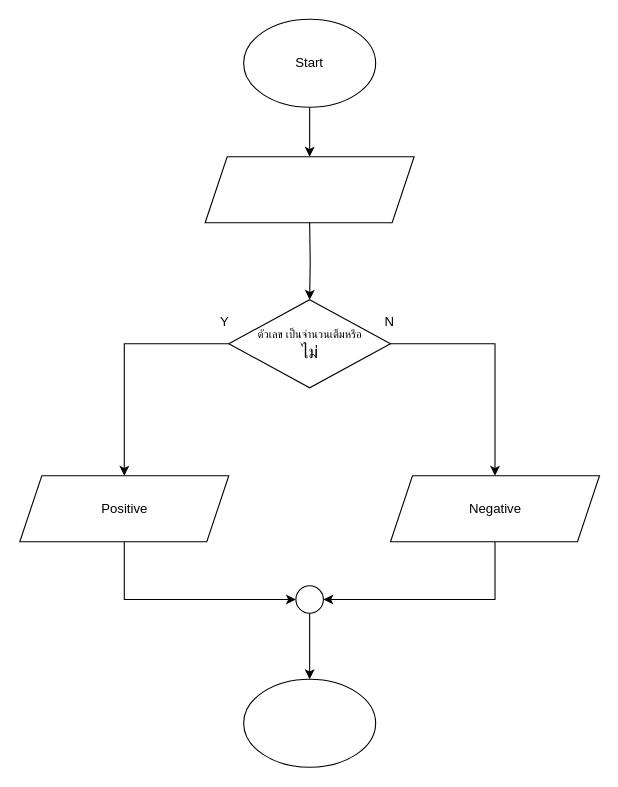
Image size: 618x787. Some labels were removed from this diagram. The centre of each missing label's shape, as x and y in pixels:
END: the point at 309,722
รับข้อมูลUser: the point at 309,189
